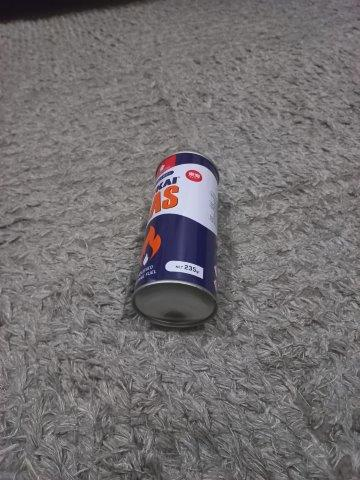kaleng: (133, 151, 222, 330)
